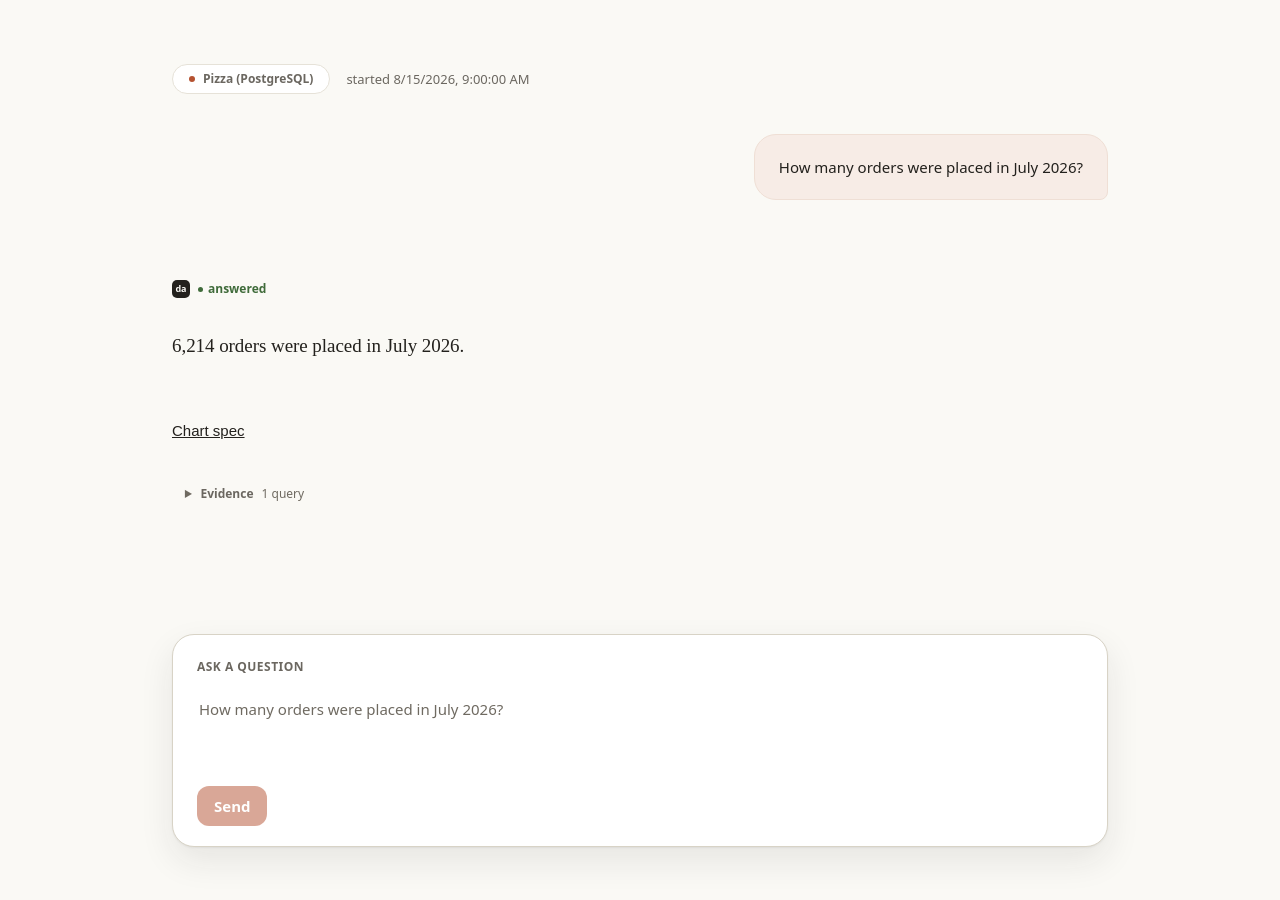
Test: the chart, and the reason there is none › offers the spec, the way the SQL is offered
The image size is (1280, 900).
Click the button "Chart spec".
click(208, 430)  # box [172,422,244,439]
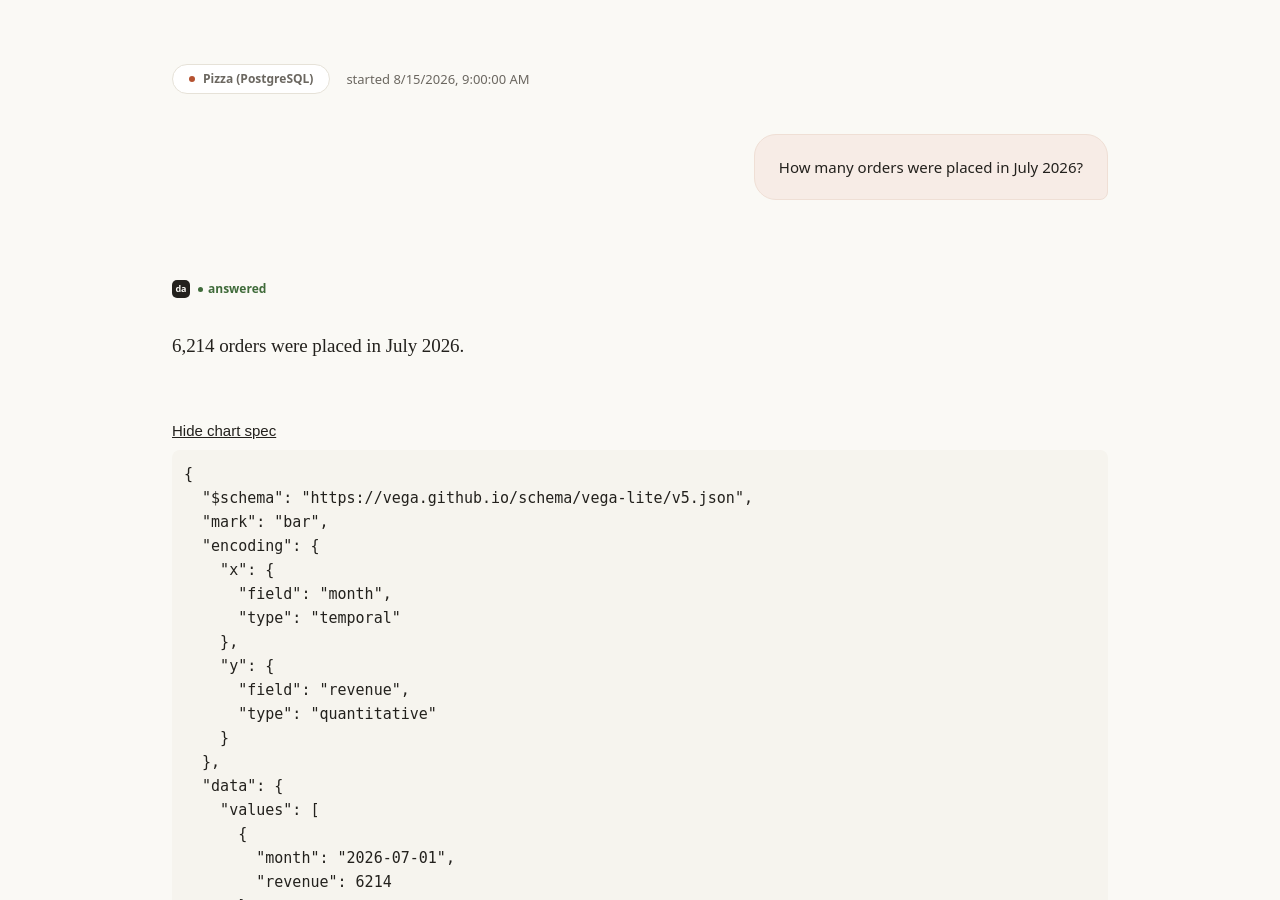
expect the button "Hide chart spec" is shown: met, box [172,422,276,439]
